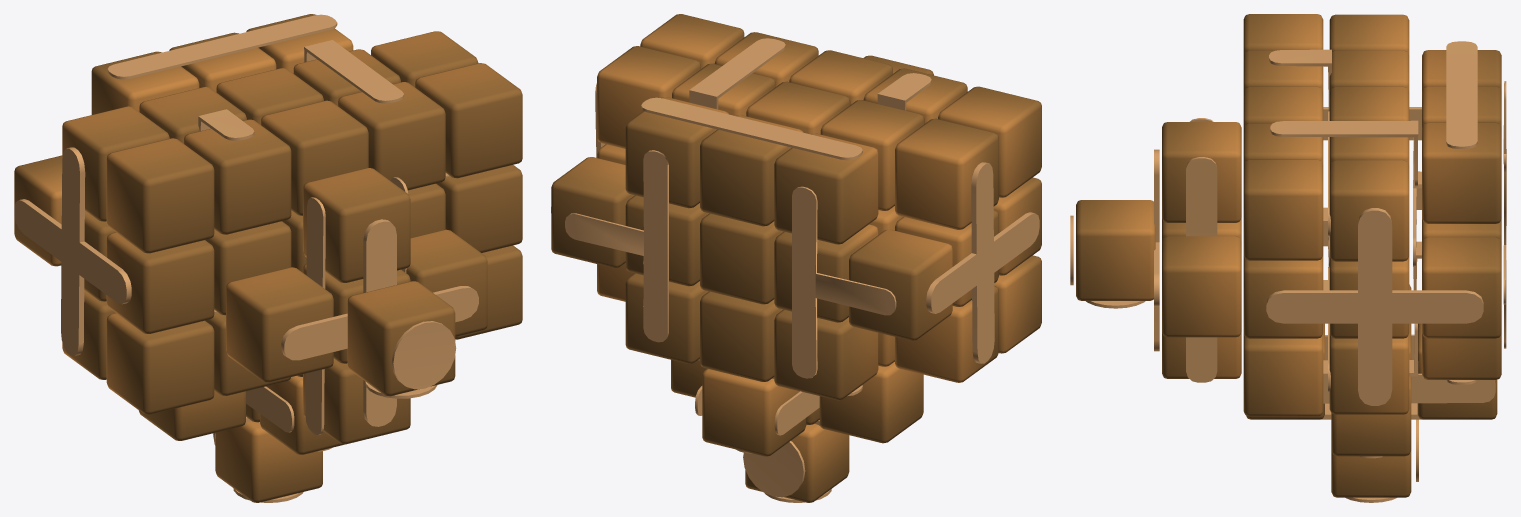
File: level_140.fbx
3 views of the same model, side by side, from view 1: azimuth 30°, elevation 25°; view 2: azimuth 150°, elevation 25°; view 3: azimuth 270°, elevation 25° (orthographic). The views are drawn at different scales.
Parts seen in each view (by area): view 1: Cube_L1_12.024, Cube_L1_12.036, Cube_L1_12.048, Cube_L1_12.026, Link_2, Cube_L1_12.023, Cube_L1_12.008, Cube_L1_12.051, Cube_L1_12.025, Cube_L1_12.050, Link_22.001, Cube_L1_12.022 (+29 smaller); view 2: Cube_L1_12.044, Cube_L1_12.003, Link_2, Cube_L1_12.032, Link_25, Link_26, Cube_L1_12.031, Cube_L1_12.042, Cube_L1_12.020, Cube_L1_12.001, Cube_L1_12.019, Cube_L1_12.024 (+26 smaller); view 3: Link_3, Cube_L1_12.026, Cube_L1_12.049, Cube_L1_12.050, Cube_L1_12.033, Cube_L1_12.046, Cube_L1_12.038, Cube_L1_12.005, Cube_L1_12.051, Cube_L1_12.010, Cube_L1_12.045, Link_24.002 (+24 smaller).
Boxes of the visible parts, <box> form: Cube_L1_12.024: <box>106,138,214,253</box>; Cube_L1_12.036: <box>106,313,214,414</box>; Cube_L1_12.048: <box>226,267,333,382</box>; Cube_L1_12.026: <box>415,63,522,178</box>; Link_2: <box>14,147,131,355</box>; Cube_L1_12.023: <box>184,119,291,234</box>; Cube_L1_12.008: <box>106,232,214,333</box>; Cube_L1_12.051: <box>303,168,410,282</box>; Cube_L1_12.025: <box>338,82,445,190</box>; Cube_L1_12.050: <box>347,281,455,396</box>; Link_22.001: <box>281,219,478,426</box>; Cube_L1_12.022: <box>261,100,368,215</box>; Cube_L1_12.044: <box>895,118,998,229</box>; Cube_L1_12.003: <box>849,229,952,340</box>; Link_2: <box>926,162,1039,363</box>; Cube_L1_12.032: <box>774,133,878,244</box>; Link_25: <box>792,186,896,378</box>; Link_26: <box>565,150,668,342</box>; Cube_L1_12.031: <box>700,115,803,226</box>; Cube_L1_12.042: <box>702,368,806,456</box>; Cube_L1_12.020: <box>774,309,878,400</box>; Cube_L1_12.001: <box>700,213,783,304</box>; Cube_L1_12.019: <box>700,291,782,381</box>; Cube_L1_12.024: <box>938,86,1041,197</box>; Link_3: <box>1266,208,1483,405</box>; Cube_L1_12.026: <box>1243,159,1323,260</box>; Cube_L1_12.049: <box>1162,236,1241,337</box>; Cube_L1_12.050: <box>1076,200,1155,300</box>; Cube_L1_12.033: <box>1422,122,1501,223</box>; Cube_L1_12.046: <box>1329,160,1409,261</box>; Cube_L1_12.038: <box>1243,333,1323,416</box>; Cube_L1_12.005: <box>1422,237,1501,338</box>; Cube_L1_12.051: <box>1162,122,1241,222</box>; Cube_L1_12.010: <box>1243,255,1323,338</box>; Cube_L1_12.045: <box>1329,333,1409,414</box>; Link_24.002: <box>1186,157,1217,382</box>.
Bounding box in the file's own units: 11.08 × 10.92 × 10.91.
